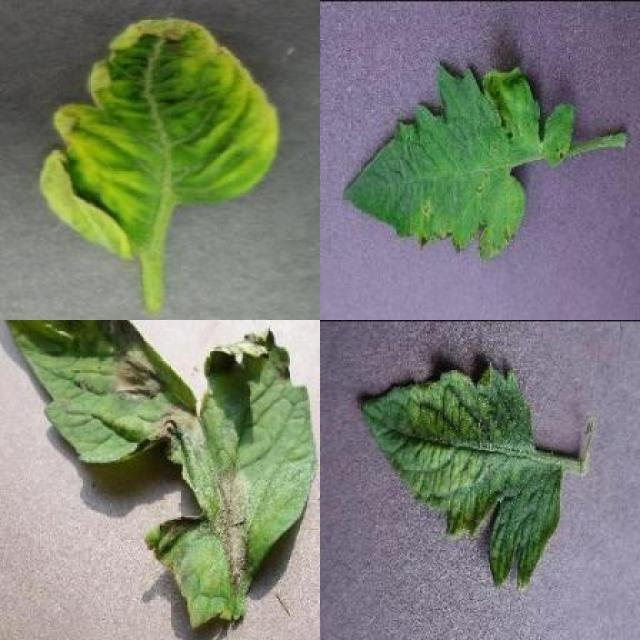Late Blight: (3, 320, 318, 627)
Mosaic Virus: (356, 362, 564, 592)
Septoria: (341, 63, 576, 258)
Yellow Leaf Curl Virus: (41, 16, 279, 257)
